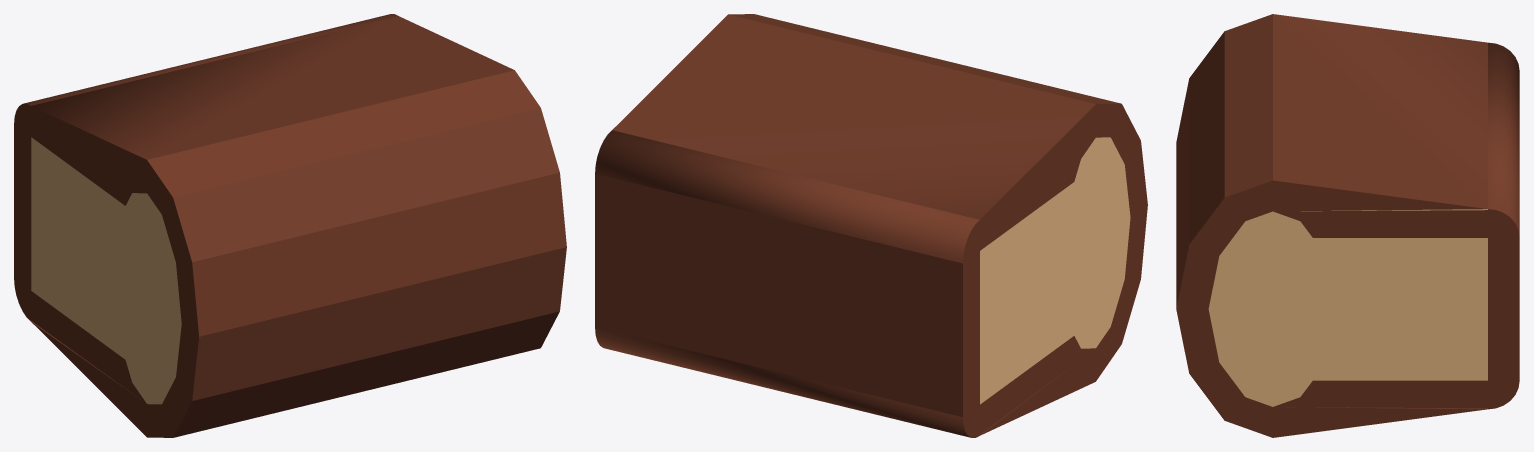
Rendered from breadS1_collision.obj.
3 renders of one model, left to right at view 1: azimuth 30°, elevation 25°; view 2: azimuth 150°, elevation 25°; view 3: azimuth 270°, elevation 25°, orthographic. The views are drawn at different scales.
Parts seen in each view (by area): view 1: loaf_ID7.004; view 2: loaf_ID7.004; view 3: loaf_ID7.004.
Part boxes in pixels (x1,y1,x2,y2): loaf_ID7.004: (14,14,566,437); loaf_ID7.004: (595,14,1147,437); loaf_ID7.004: (1176,14,1519,437).
Bounding box in the file's own units: 0.3506 × 0.2528 × 0.3056.
